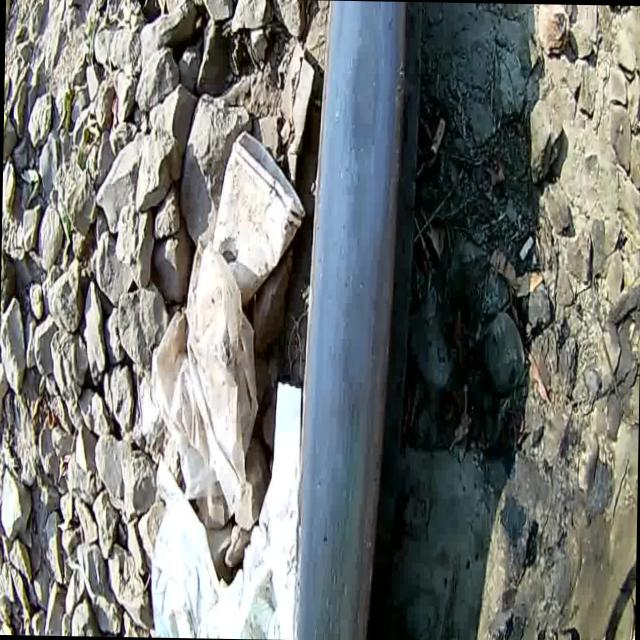Squats: (268, 0, 429, 640)
